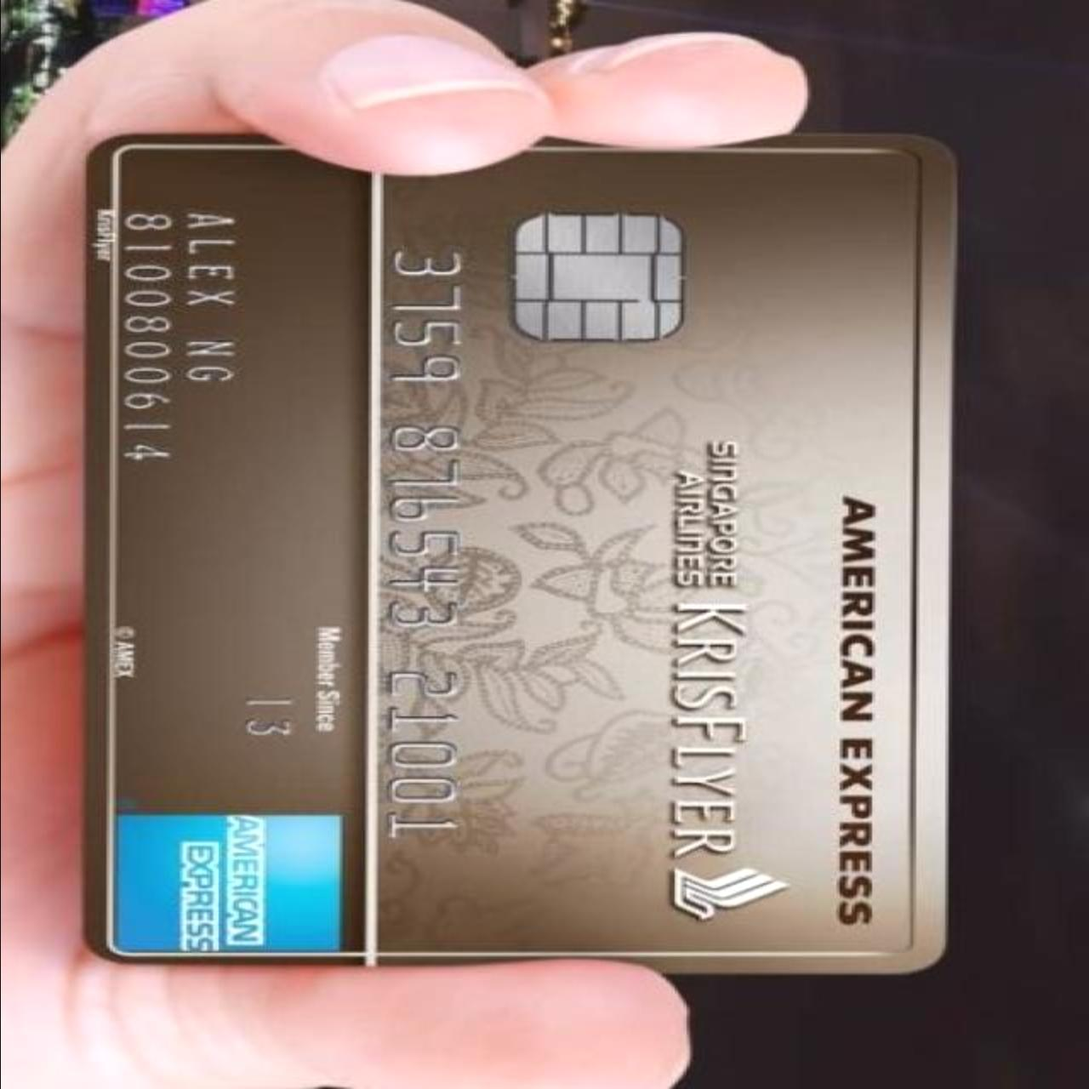credit_card: (82, 150, 960, 977)
